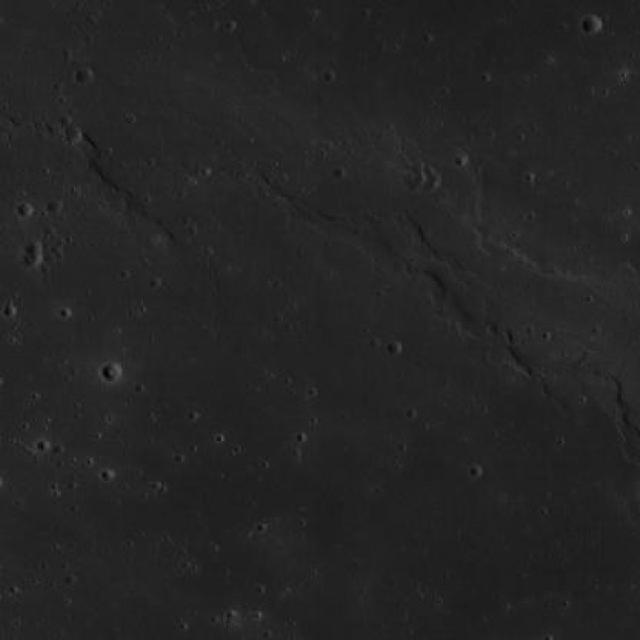crater: (21, 247, 41, 267), (582, 16, 602, 35), (22, 237, 41, 256), (104, 364, 124, 382), (76, 68, 95, 86), (66, 126, 83, 142)
